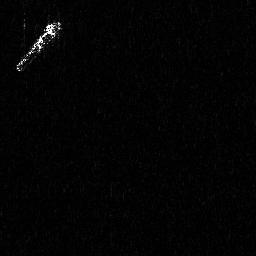ship: (15, 19, 63, 73)
